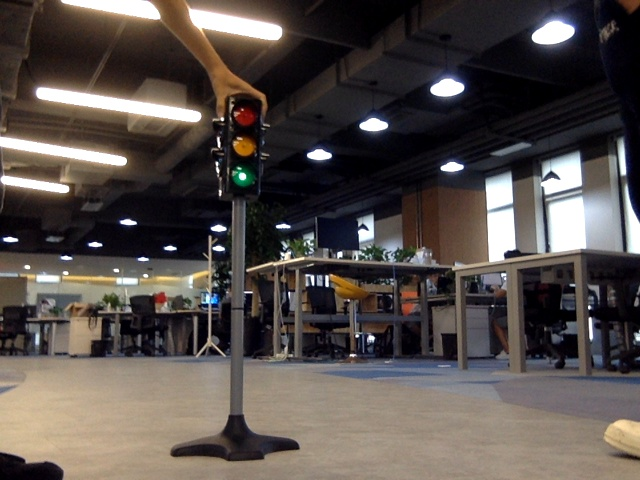green: (227, 102, 257, 194)
